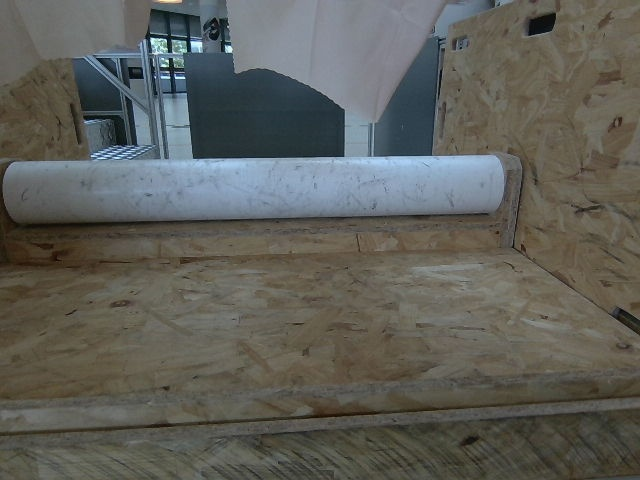curtain: (51, 0, 461, 130)
